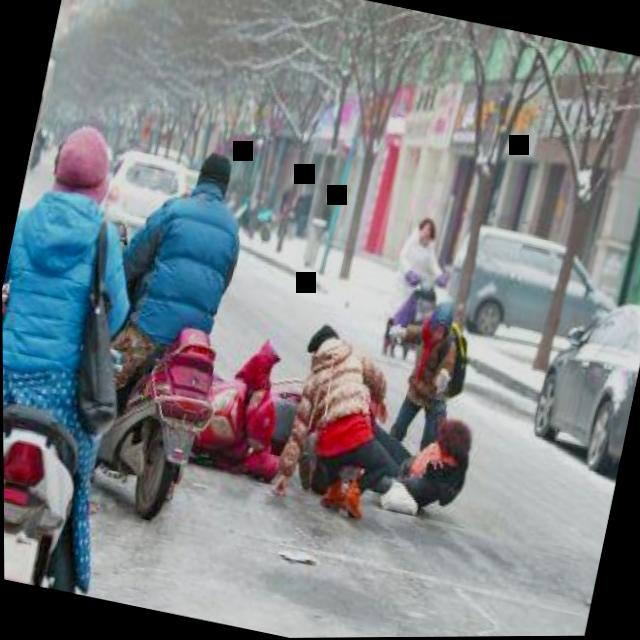Fall-Detected: (239, 308, 437, 526)
